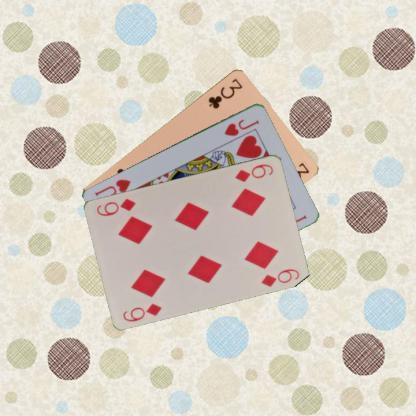3c: (206, 76, 244, 110)
6d: (120, 300, 164, 322), (233, 161, 275, 183)
Jh: (221, 116, 261, 138)
